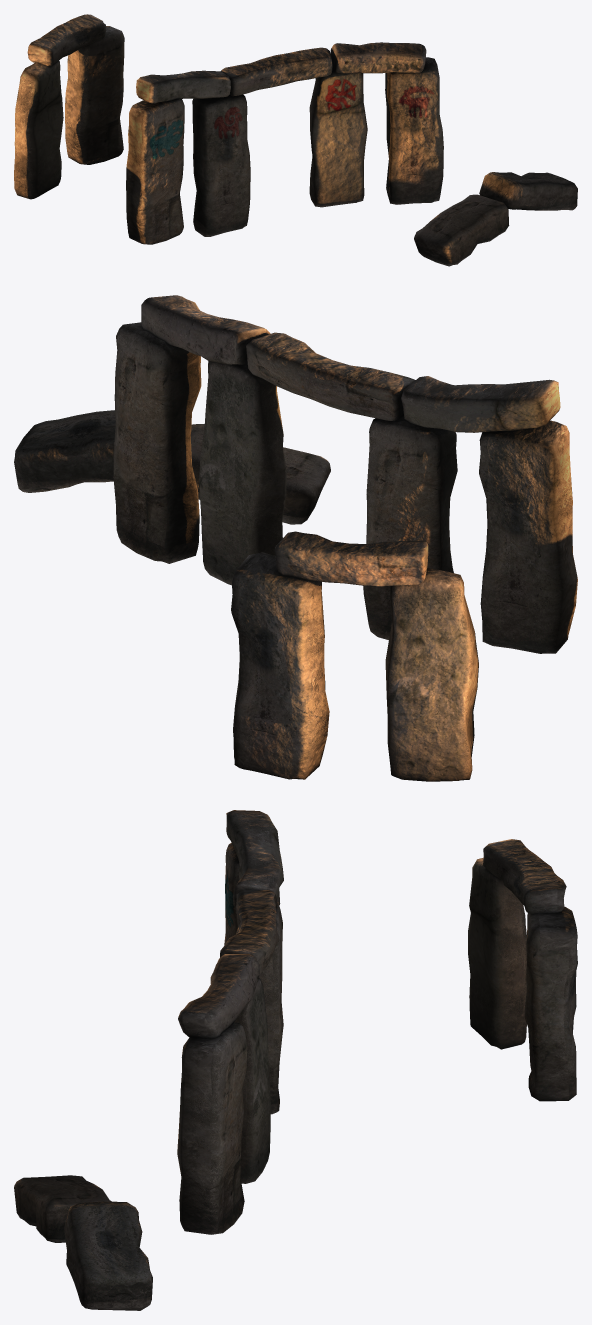
The model's file is stone.fbx.
The picture shows the model from 3 angles, top to bottom: view 1: azimuth 30°, elevation 25°; view 2: azimuth 150°, elevation 25°; view 3: azimuth 270°, elevation 25°; orthographic projection. The views are drawn at different scales.
Visible parts, largest first — view 1: middle_rocks, back_rocks, Object001; view 2: middle_rocks, back_rocks, Object001; view 3: middle_rocks, back_rocks, Object001.
Boxes of the visible parts, bbox=[...] form: middle_rocks: bbox=[126, 42, 443, 244]; back_rocks: bbox=[14, 14, 124, 199]; Object001: bbox=[414, 172, 577, 266]; middle_rocks: bbox=[113, 295, 577, 653]; back_rocks: bbox=[231, 531, 478, 781]; Object001: bbox=[14, 410, 330, 524]; middle_rocks: bbox=[177, 810, 283, 1234]; back_rocks: bbox=[468, 839, 577, 1101]; Object001: bbox=[14, 1175, 152, 1310].
Size of the model in its own units: 0.6651 by 0.28 by 0.5589.
Materials: 2 (2 with a texture image).
